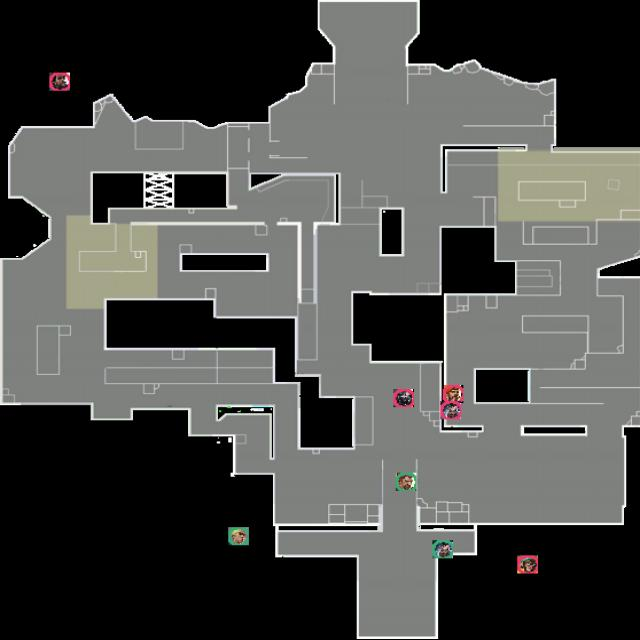atk_brimstone: (443, 385, 463, 403)
atk_fade: (441, 401, 461, 419)
atk_harbor: (49, 72, 70, 90)
atk_killjoy: (517, 556, 538, 574)
atk_viper: (393, 389, 414, 407)
def_breach: (396, 473, 416, 491)
def_fade: (432, 540, 453, 558)
def_gekko: (228, 527, 249, 545)
